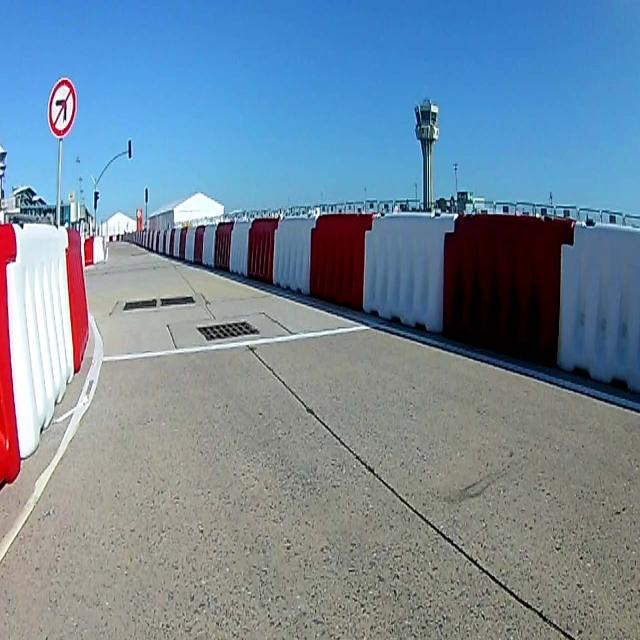soladonulmez: (48, 79, 78, 137)
